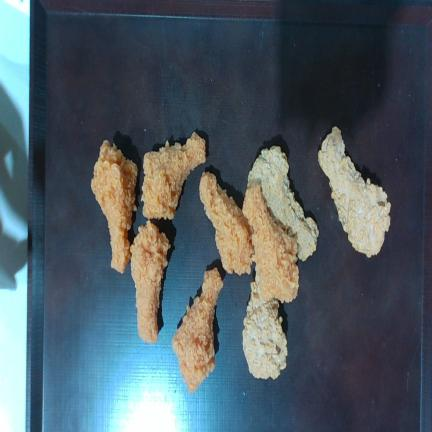chicken: (319, 127, 390, 257), (248, 146, 319, 260), (243, 185, 298, 302), (172, 268, 223, 392), (91, 140, 137, 272), (141, 132, 205, 220), (199, 171, 252, 275), (130, 221, 170, 343), (243, 281, 287, 379)
